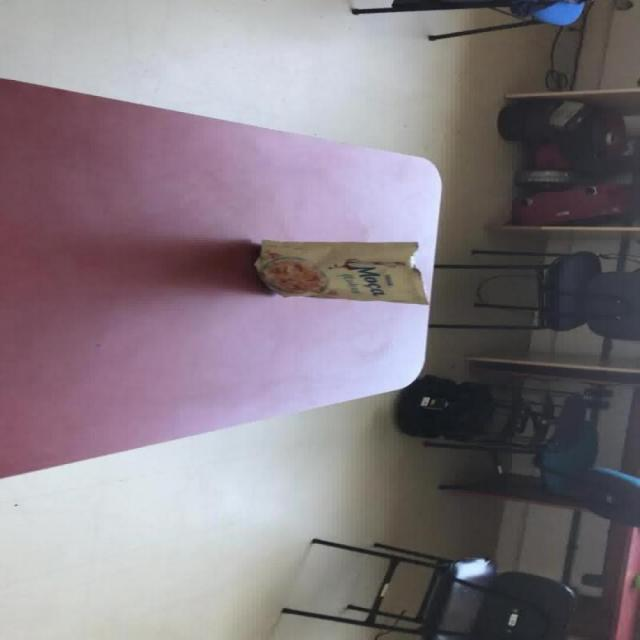CornFlakes: (252, 238, 428, 304)
